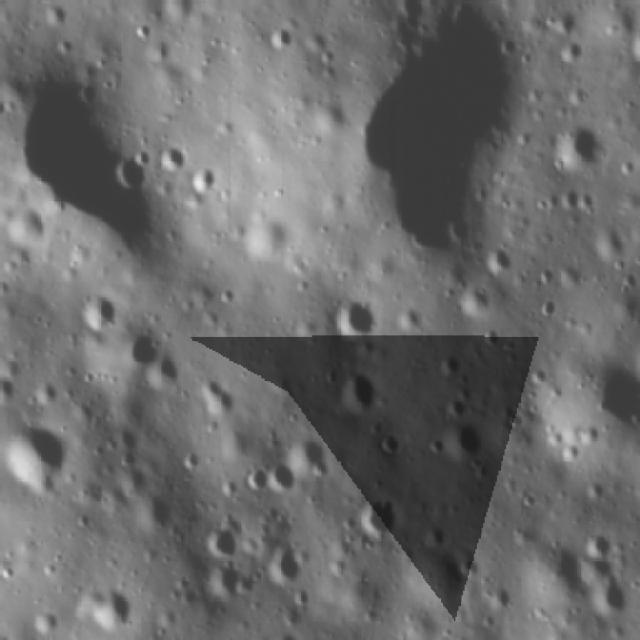crater: (343, 0, 520, 263), (10, 51, 165, 249), (543, 337, 639, 452), (0, 419, 75, 499), (544, 110, 604, 179), (79, 574, 141, 638), (322, 359, 380, 415), (326, 288, 382, 344), (189, 368, 242, 424), (277, 426, 329, 482), (354, 490, 403, 548), (436, 411, 489, 464), (201, 556, 250, 610), (99, 150, 156, 196), (121, 319, 167, 376), (6, 201, 48, 257), (265, 536, 307, 592), (200, 512, 246, 560), (134, 486, 174, 537), (453, 279, 498, 324), (256, 451, 298, 498), (592, 575, 632, 622), (79, 284, 115, 336), (152, 130, 191, 176), (549, 178, 597, 213), (578, 549, 617, 588), (304, 98, 344, 134), (482, 239, 520, 276), (112, 461, 151, 497), (43, 0, 80, 35), (580, 522, 614, 560), (595, 221, 627, 261), (23, 607, 61, 640), (275, 589, 308, 626), (184, 160, 218, 195), (486, 576, 516, 615), (548, 6, 580, 42), (552, 258, 585, 291), (558, 36, 590, 70), (369, 426, 405, 456), (264, 17, 293, 54), (298, 22, 329, 55), (175, 446, 207, 477), (115, 422, 148, 452), (394, 304, 424, 336), (418, 516, 445, 547), (474, 320, 506, 346), (435, 348, 462, 378), (535, 295, 567, 320), (284, 581, 314, 605), (458, 551, 484, 578), (212, 282, 237, 310), (501, 403, 524, 429), (132, 21, 152, 42), (0, 0, 11, 2)
